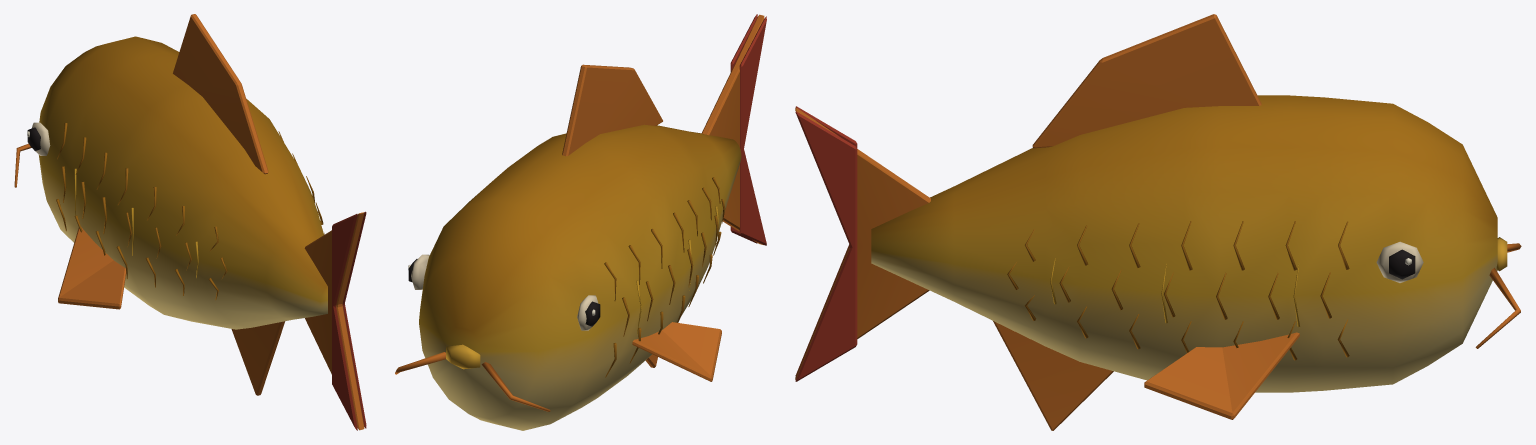
The model's file is fish_golden_carp.glb.
3 views of the same model, side by side, from view 1: azimuth 30°, elevation 25°; view 2: azimuth 150°, elevation 25°; view 3: azimuth 270°, elevation 25° (orthographic). The views are drawn at different scales.
Size of the model in its own units: 0.355 by 0.4412 by 0.6994.
